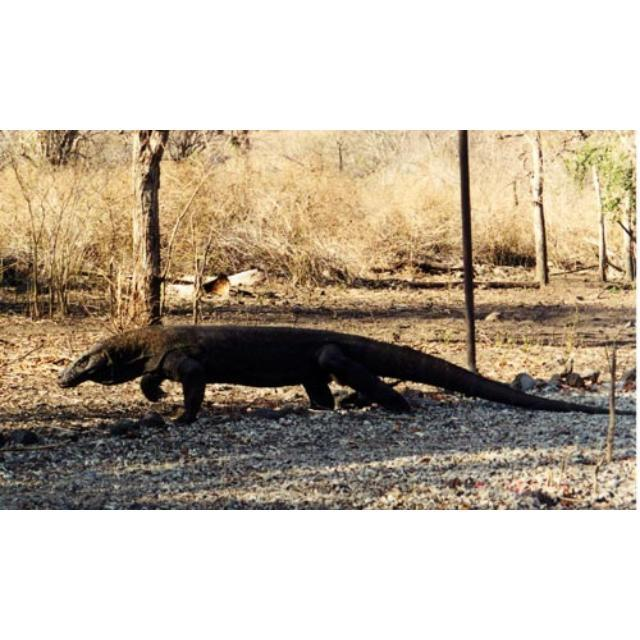KomodoDragon: (54, 322, 635, 430)
